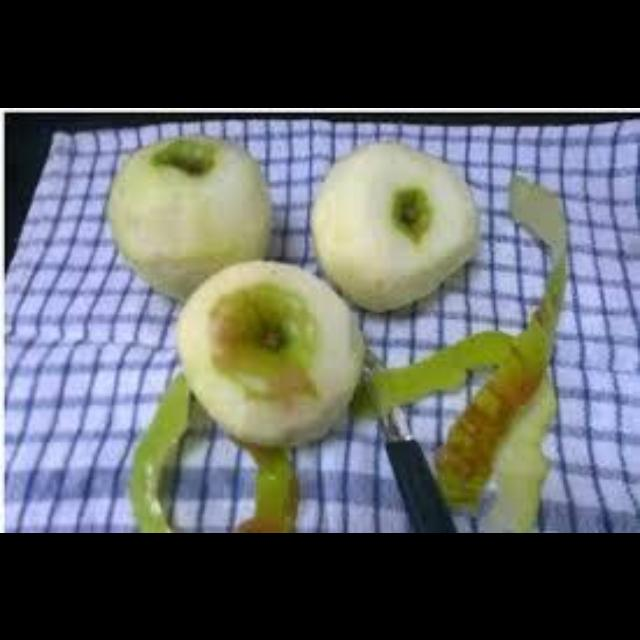apple: (177, 261, 363, 444), (312, 140, 477, 309), (107, 135, 270, 298)
